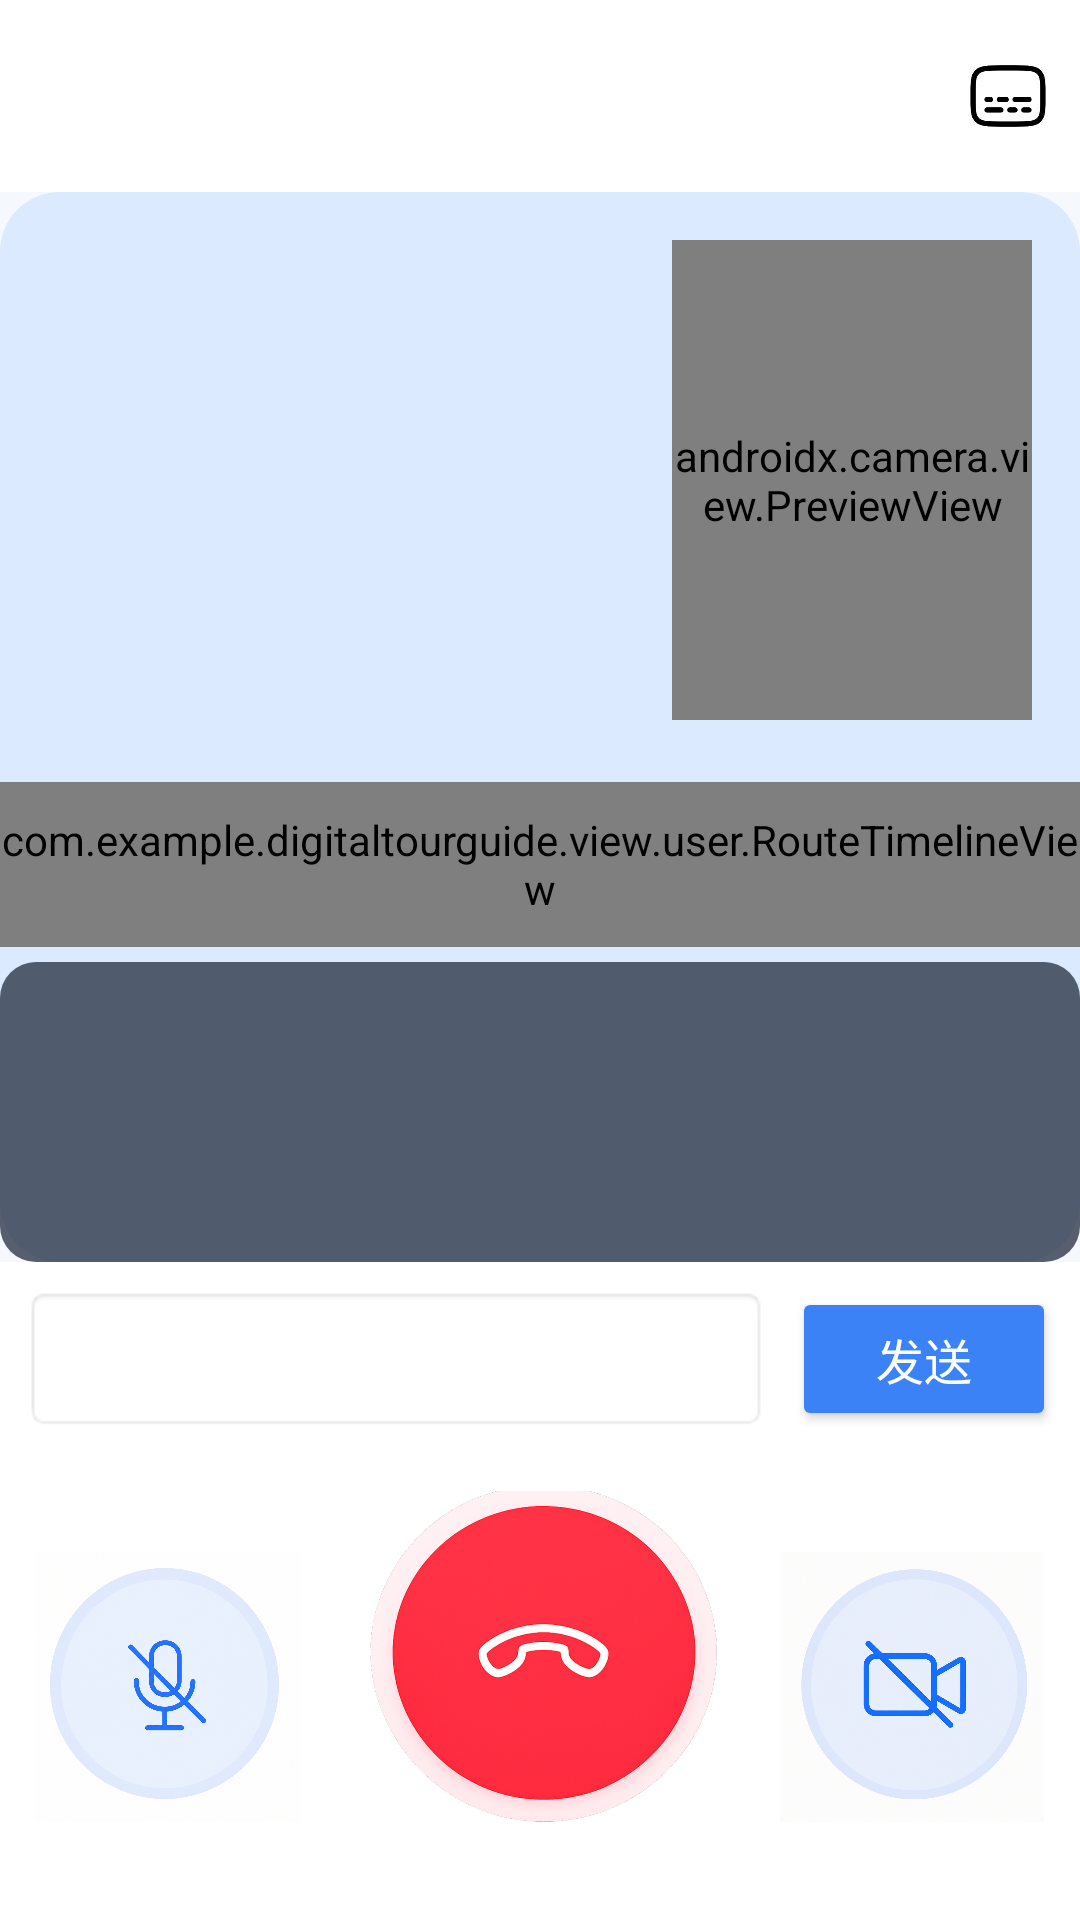

Icons on this 1080 × 1920 Android screen, each with the point to tap as [x,y]:
字幕: [1008,96]
摄像: [914,1684]
麦克风: [164,1683]
